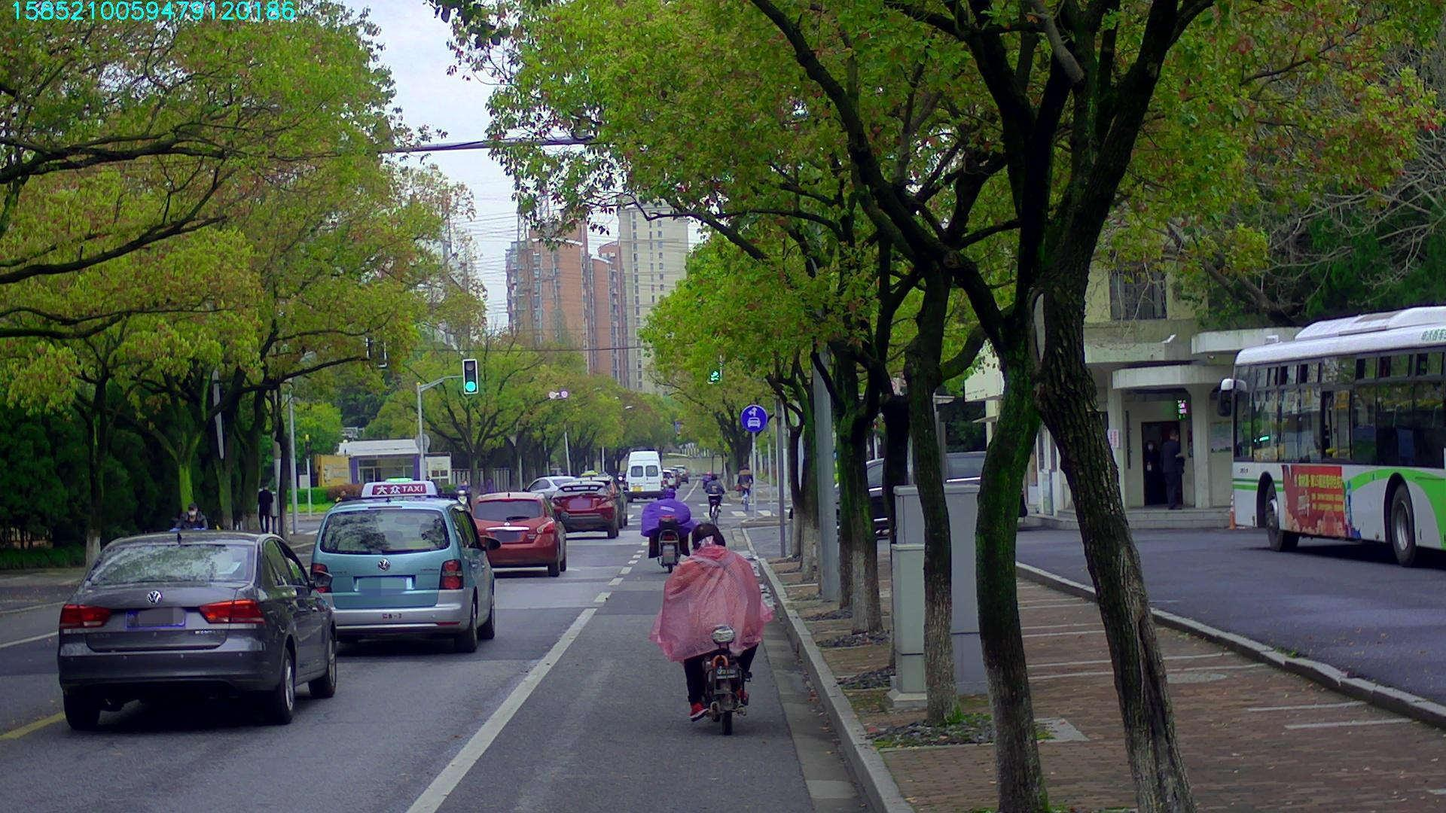green: (462, 359, 477, 392), (707, 357, 719, 382)
